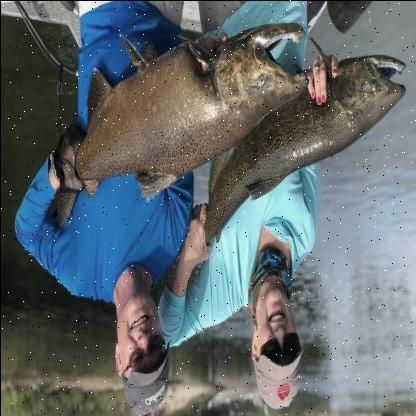fish: (50, 15, 312, 240), (181, 44, 410, 268)
